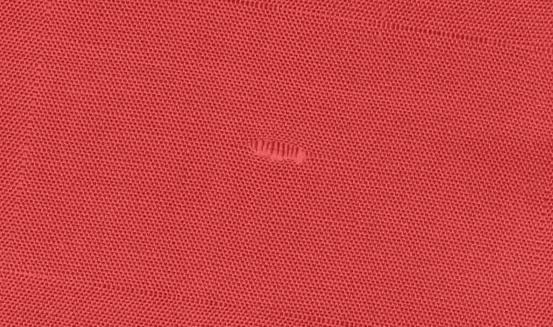slub: (238, 132, 313, 169)
